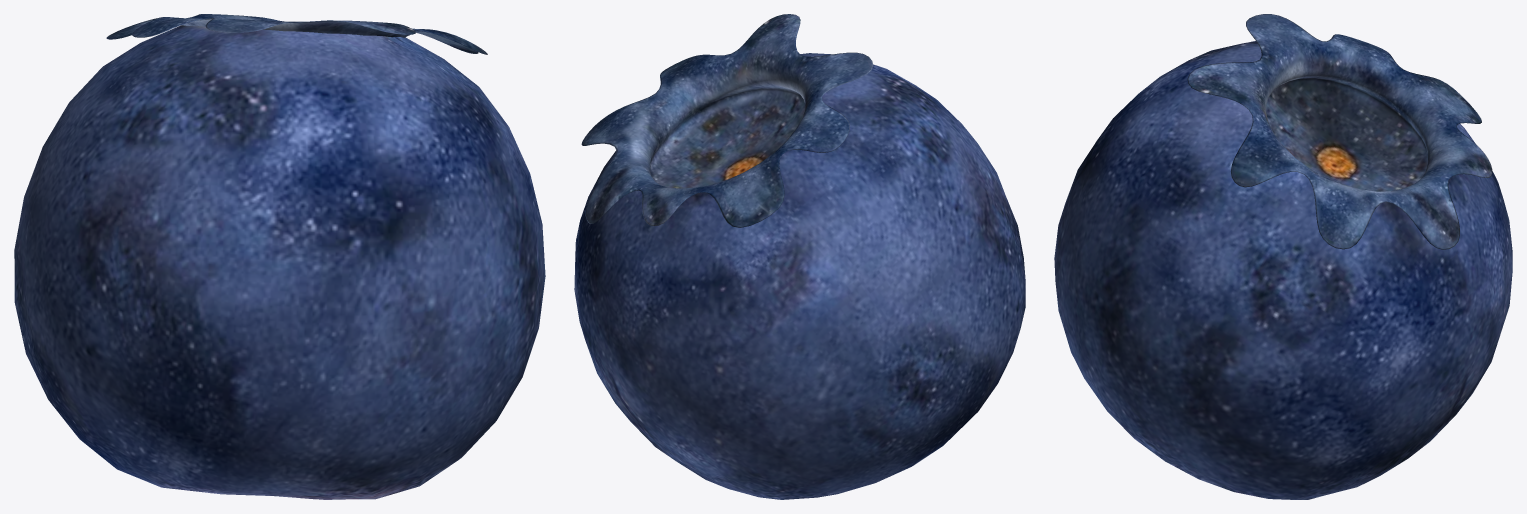
The model's file is blueberry.glb.
3 renders of one model, left to right at view 1: azimuth 30°, elevation 25°; view 2: azimuth 150°, elevation 25°; view 3: azimuth 270°, elevation 25°, orthographic. The views are drawn at different scales.
Parts seen in each view (by area): view 1: blueberry.002; view 2: blueberry.002; view 3: blueberry.002.
Part boxes in pixels (left/top/right/bottom): blueberry.002: left=14, top=14, right=545, bottom=499; blueberry.002: left=574, top=14, right=1025, bottom=499; blueberry.002: left=1054, top=14, right=1512, bottom=499.
Bounding box in the file's own units: 0.0093 × 0.00955 × 0.00933.
Materials: 1 (1 with a texture image).
